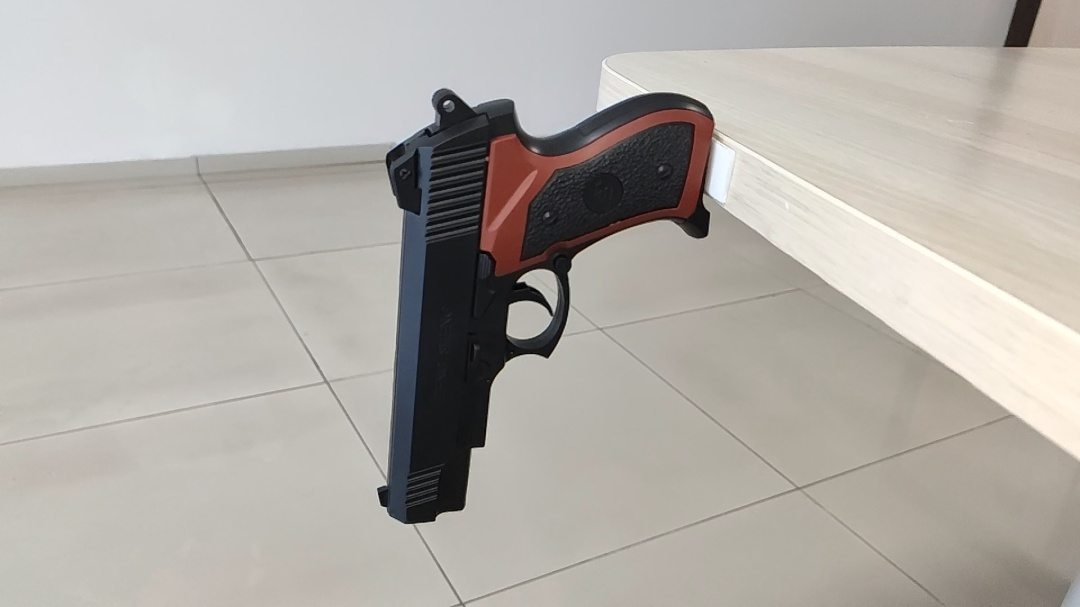gun: (341, 188, 523, 357)
